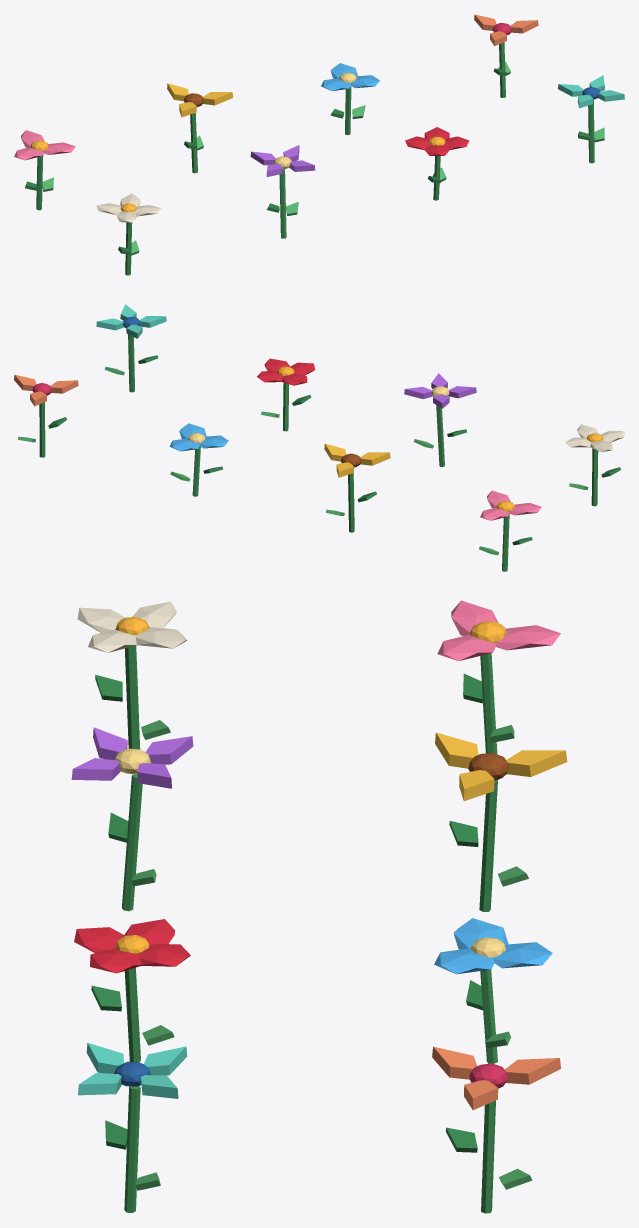
File: CartoonMiniFlowers_Pack.glb
3 renders of one model, top to bottom at view 1: azimuth 30°, elevation 25°; view 2: azimuth 150°, elevation 25°; view 3: azimuth 270°, elevation 25°, orthographic. The views are drawn at different scales.
Visible parts, largest first — view 1: MiniFlower_4Petal_Violet Stem, MiniFlower_4Petal_Mint Stem; view 2: MiniFlower_4Petal_Violet Stem; view 3: MiniFlower_4Petal_Violet Stem, MiniFlower_4Petal_Mint Stem, MiniFlower_3Petal_Yellow Stem, MiniFlower_3Petal_Coral Stem, MiniFlower_3Petal_Yellow Petal 1, MiniFlower_4Petal_White Stem, MiniFlower_3Petal_Pink Petal 1, MiniFlower_3Petal_Pink Stem, MiniFlower_3Petal_Blue Petal 1, MiniFlower_3Petal_Coral Petal 1, MiniFlower_4Petal_Red Stem, MiniFlower_3Petal_Blue Petal 3 (+18 smaller).
Part boxes in pixels (x1,y1,x2,y2): MiniFlower_4Petal_Violet Stem: (279, 169, 286, 238); MiniFlower_4Petal_Mint Stem: (588, 99, 594, 163); MiniFlower_4Petal_Violet Stem: (436, 405, 444, 466); MiniFlower_4Petal_Violet Stem: (122, 774, 142, 911); MiniFlower_4Petal_Mint Stem: (124, 1086, 140, 1212); MiniFlower_3Petal_Yellow Stem: (479, 780, 497, 911); MiniFlower_3Petal_Coral Stem: (481, 1100, 495, 1213); MiniFlower_3Petal_Yellow Petal 1: (506, 750, 567, 776); MiniFlower_4Petal_White Stem: (125, 645, 140, 749); MiniFlower_3Petal_Pink Petal 1: (495, 625, 560, 650); MiniFlower_3Petal_Pink Stem: (480, 653, 497, 753); MiniFlower_3Petal_Blue Petal 1: (493, 942, 552, 968); MiniFlower_3Petal_Coral Petal 1: (504, 1058, 560, 1084); MiniFlower_4Petal_Red Stem: (124, 967, 140, 1062); MiniFlower_3Petal_Blue Petal 3: (434, 948, 494, 974).
Size of the model in its own units: 3.74 by 0.5467 by 1.53.
